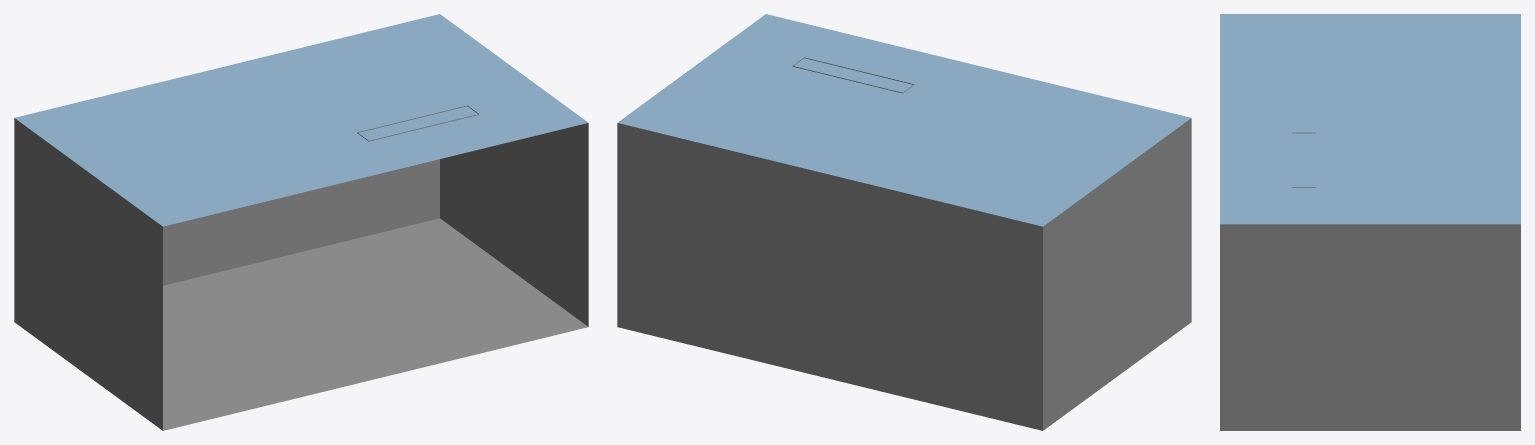
Rendered from room box.FBX.
The picture shows the model from 3 angles, left to right: view 1: azimuth 30°, elevation 25°; view 2: azimuth 150°, elevation 25°; view 3: azimuth 270°, elevation 25°; orthographic projection.
Visible parts, largest first — view 1: walls, roof; view 2: walls, roof; view 3: roof, walls.
Part boxes in pixels (box(x1,y1,x2,y2)): walls: box(14, 118, 588, 430); roof: box(14, 14, 588, 226); walls: box(617, 118, 1191, 430); roof: box(617, 14, 1191, 226); roof: box(1220, 14, 1520, 224); walls: box(1220, 224, 1520, 430).
Size of the model in its own units: 7.18 by 3.3 by 4.34.
